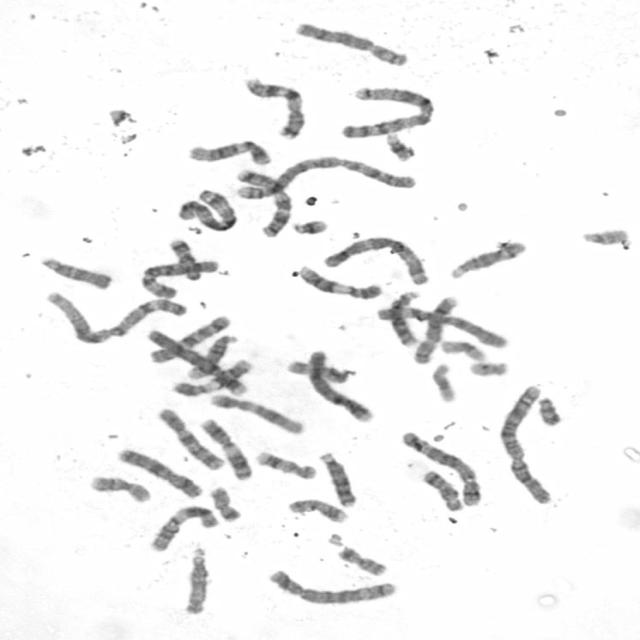A1: (42, 287, 187, 345), (336, 84, 436, 140)
A2: (232, 153, 420, 200), (497, 383, 556, 506)
A3: (318, 233, 432, 286), (175, 186, 239, 233)
B4: (142, 326, 250, 396), (304, 346, 375, 424)
B5: (397, 428, 482, 508), (263, 566, 400, 606)
C10: (145, 312, 233, 366), (154, 406, 225, 472)
C11: (196, 416, 254, 482), (147, 502, 220, 553)
C12: (208, 391, 306, 436), (184, 138, 274, 166)
C6: (375, 303, 510, 351), (136, 256, 223, 300)
C7: (232, 166, 294, 238), (240, 75, 306, 141)
C8: (290, 18, 409, 68), (412, 297, 457, 365)
C9: (295, 263, 384, 301), (171, 359, 259, 394)
D13: (316, 450, 357, 508), (388, 290, 418, 346)
D14: (446, 238, 527, 280), (183, 332, 240, 380)
D15: (38, 254, 113, 291), (180, 546, 210, 616)
E16: (88, 473, 152, 503), (286, 358, 352, 385)
E17: (252, 449, 318, 481), (288, 498, 348, 524)
E18: (419, 468, 464, 512), (165, 236, 202, 281)
F19: (427, 360, 460, 403), (438, 337, 489, 362)
F20: (334, 544, 388, 577), (208, 483, 242, 524)
G21: (382, 130, 418, 163), (288, 216, 329, 236)
G22: (578, 226, 629, 246), (466, 357, 510, 376)
X: (115, 446, 203, 499)
Y: (535, 394, 563, 428)
